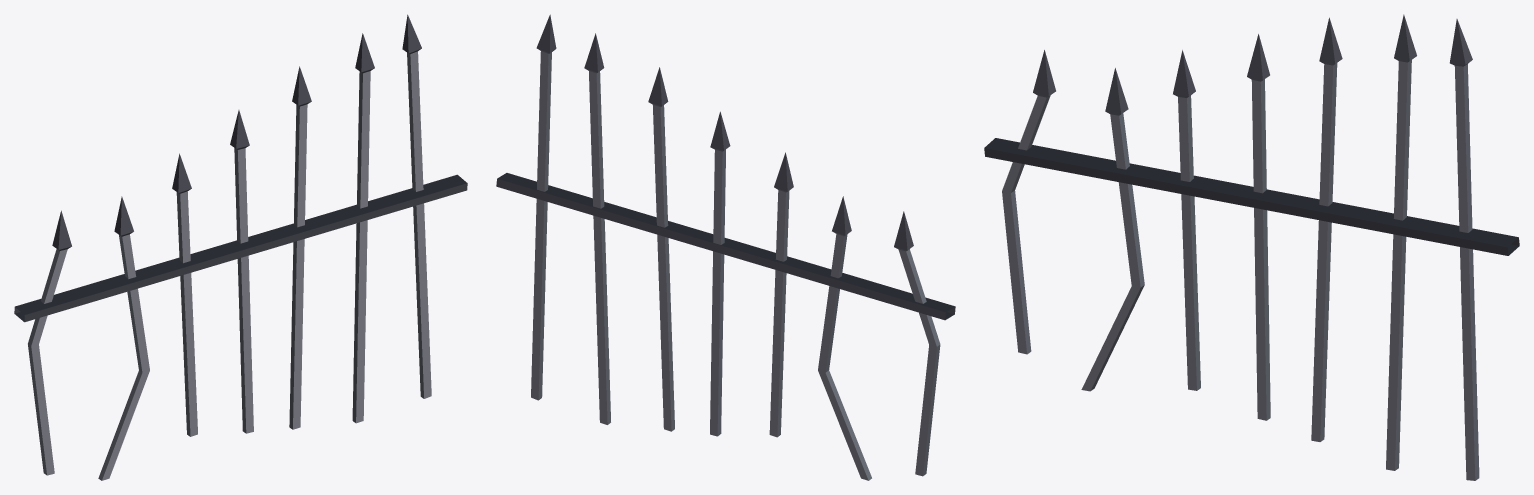
Rendered from HWN20_IronfFence_02.gltf.
The picture shows the model from 3 angles, left to right: view 1: azimuth 30°, elevation 25°; view 2: azimuth 150°, elevation 25°; view 3: azimuth 330°, elevation 25°; orthographic projection. The views are drawn at different scales.
Parts seen in each view (by area): view 1: HWN20_IronfFence_02_glb; view 2: HWN20_IronfFence_02_glb; view 3: HWN20_IronfFence_02_glb.
Part boxes in pixels (x1=…): HWN20_IronfFence_02_glb: x1=14, y1=14, x2=467, y2=480; HWN20_IronfFence_02_glb: x1=496, y1=14, x2=955, y2=480; HWN20_IronfFence_02_glb: x1=984, y1=14, x2=1519, y2=480.
Size of what is drawn, in the model's own units: 4.01 by 3.39 by 0.1817.
1 material, 1 textured.
